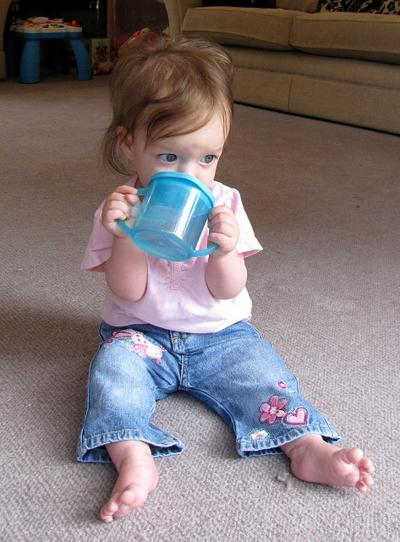person: (76, 25, 372, 527)
